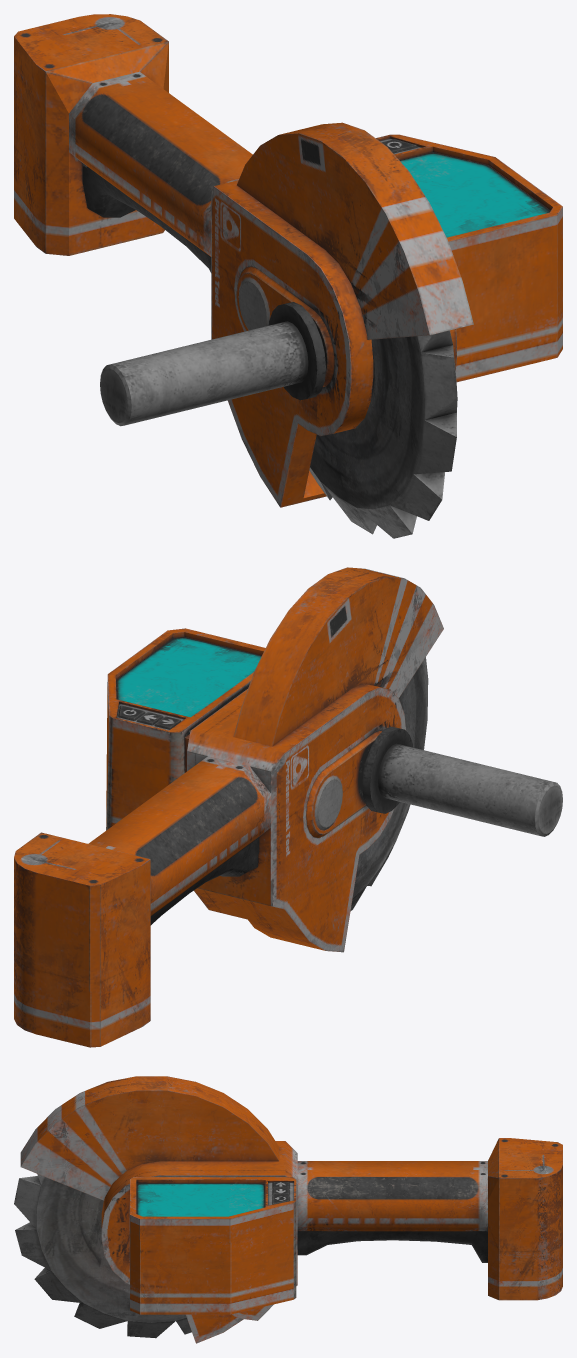
Rendered from Saw_SciFi_BS.fbx.
The picture shows the model from 3 angles, top to bottom: view 1: azimuth 30°, elevation 25°; view 2: azimuth 150°, elevation 25°; view 3: azimuth 270°, elevation 25°; orthographic projection. The views are drawn at different scales.
Visible parts, largest first — view 1: Saw_SciFi_BS, Saw_Disk_SciFi_BS; view 2: Saw_SciFi_BS, Saw_Disk_SciFi_BS; view 3: Saw_SciFi_BS, Saw_Disk_SciFi_BS.
Part boxes in pixels (box(x1,y1,x2,y2)): Saw_SciFi_BS: box(14, 14, 562, 507); Saw_Disk_SciFi_BS: box(309, 330, 457, 538); Saw_SciFi_BS: box(14, 567, 562, 1047); Saw_Disk_SciFi_BS: box(350, 657, 428, 911); Saw_SciFi_BS: box(20, 1076, 562, 1343); Saw_Disk_SciFi_BS: box(14, 1174, 191, 1338).
Size of the model in its own units: 33.74 by 27.86 by 54.45.
1 material, 1 textured.
